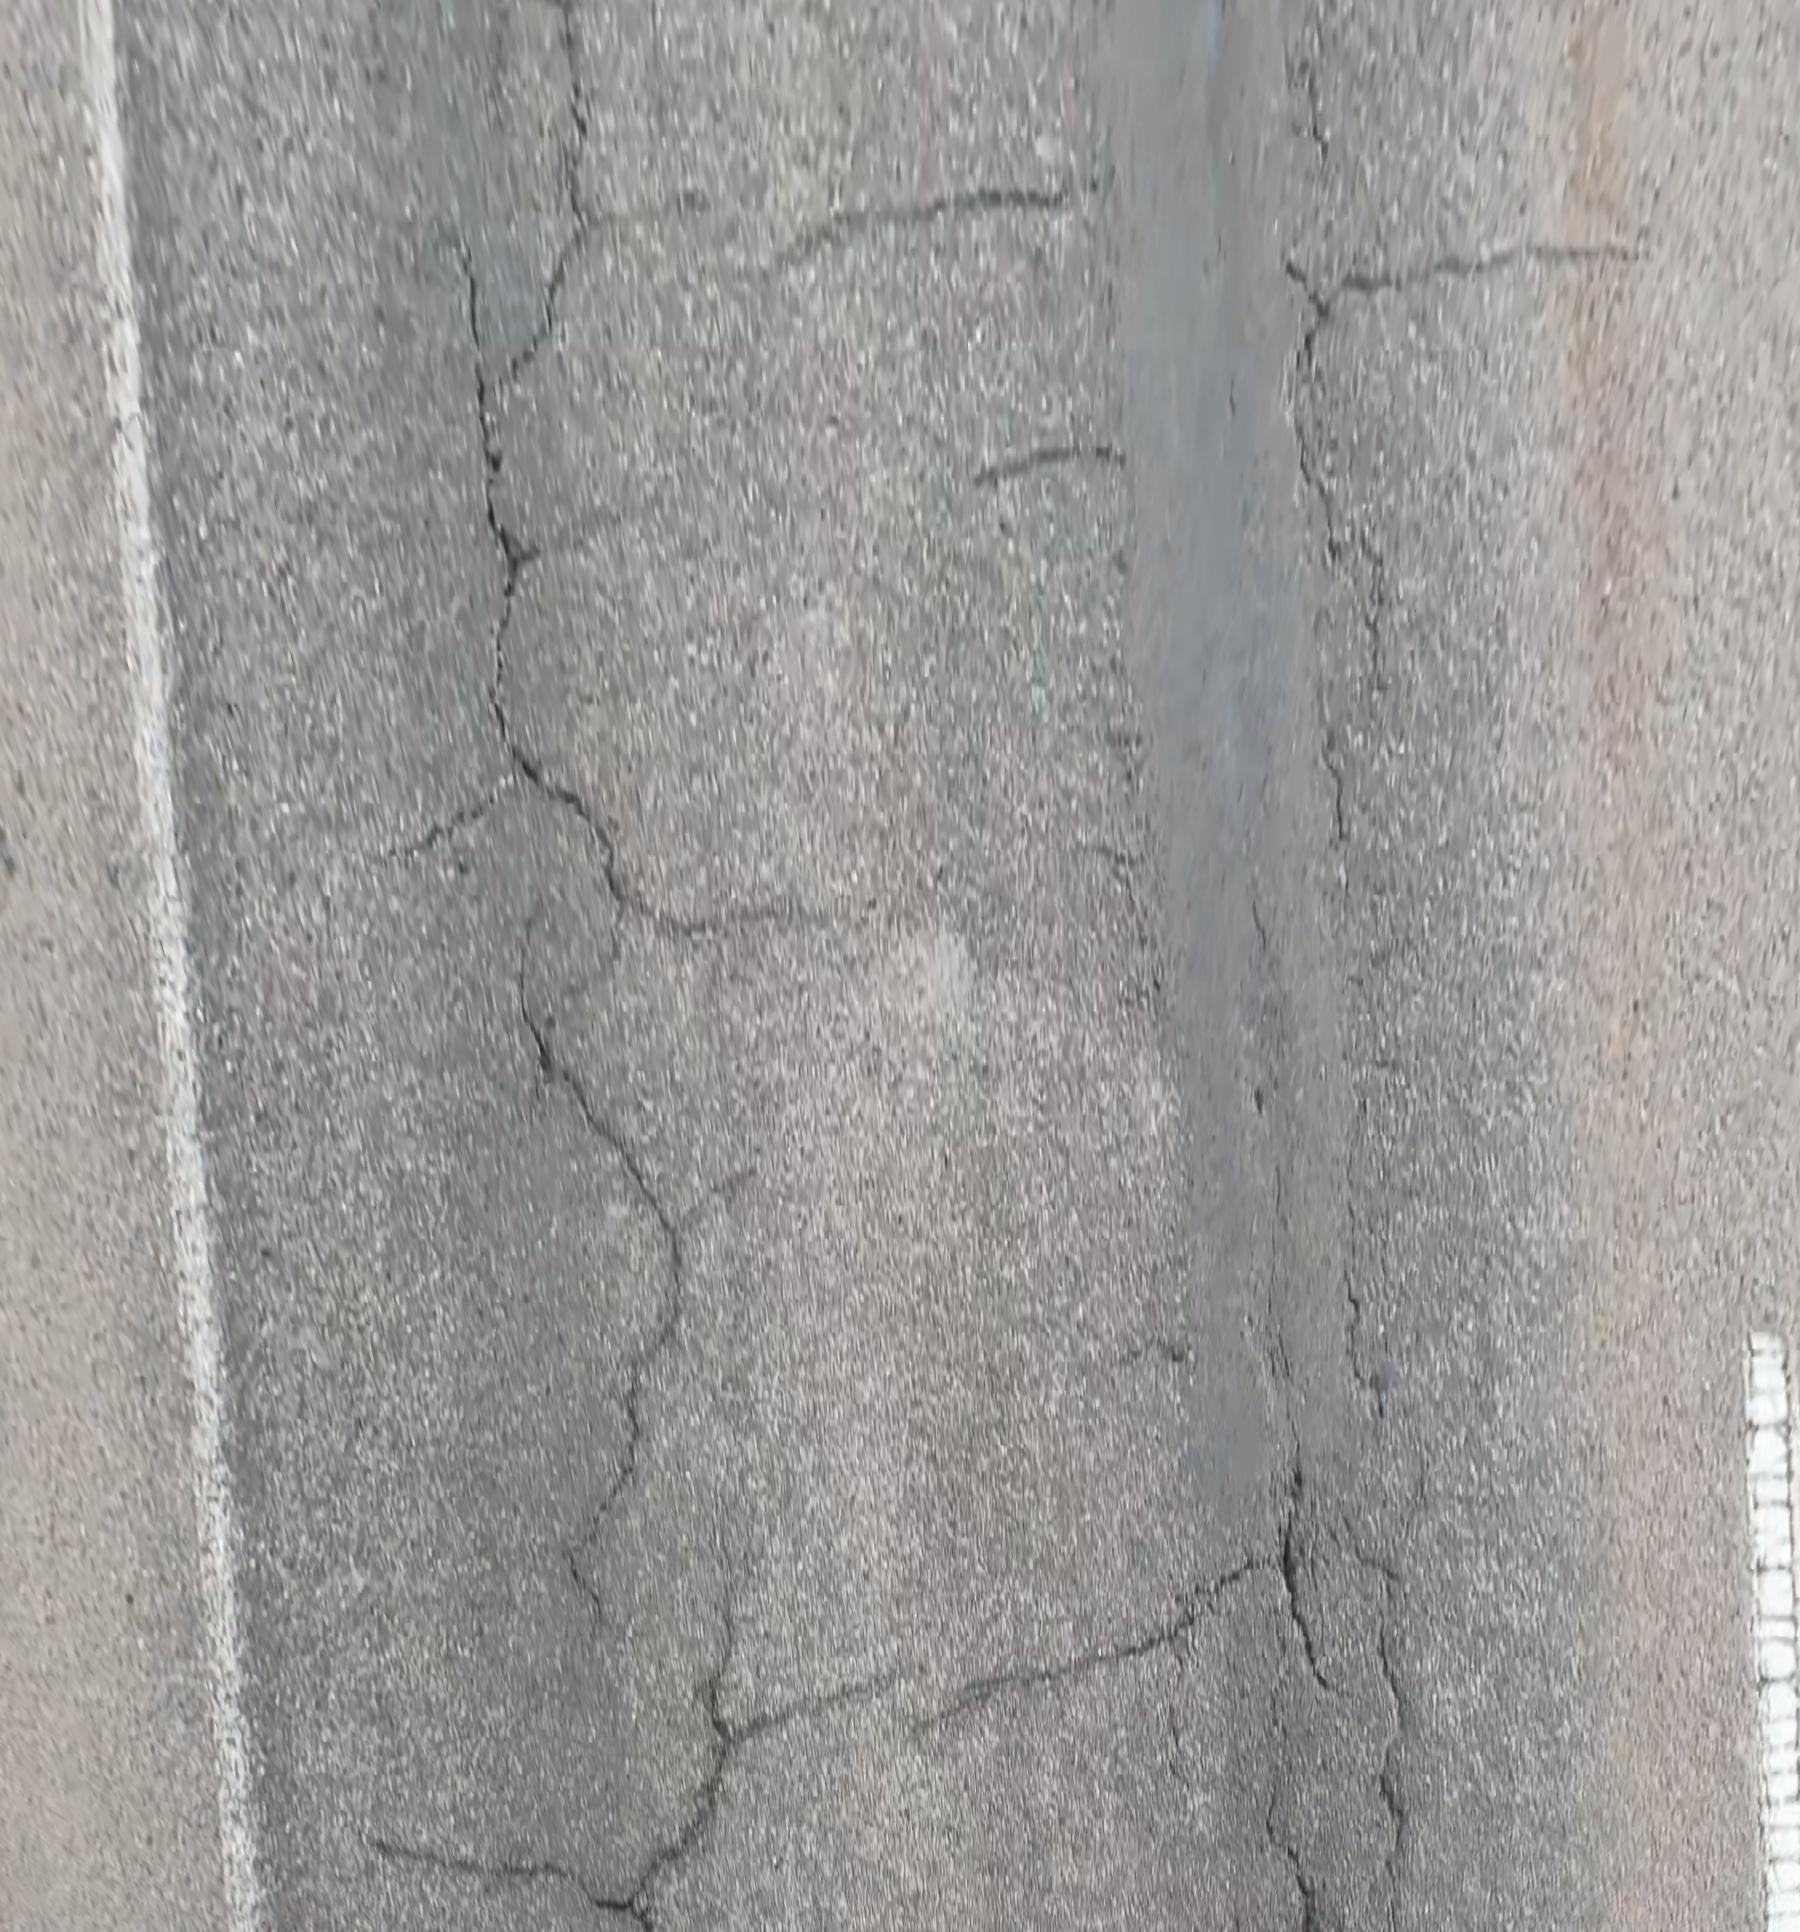pothole_patch_good: (1111, 0, 1360, 1573)
